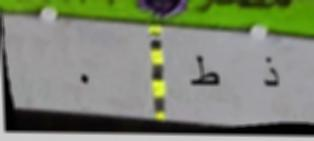0: (75, 67, 92, 89)
Taa: (187, 52, 225, 94)
zaal: (257, 53, 284, 93)
